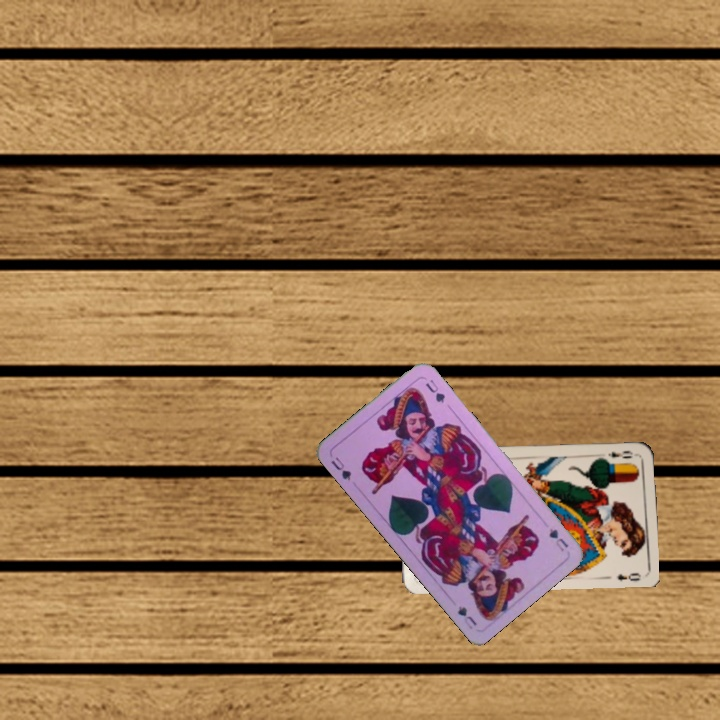EO: (604, 447, 635, 461)
GU: (327, 453, 354, 483), (545, 524, 571, 554)
